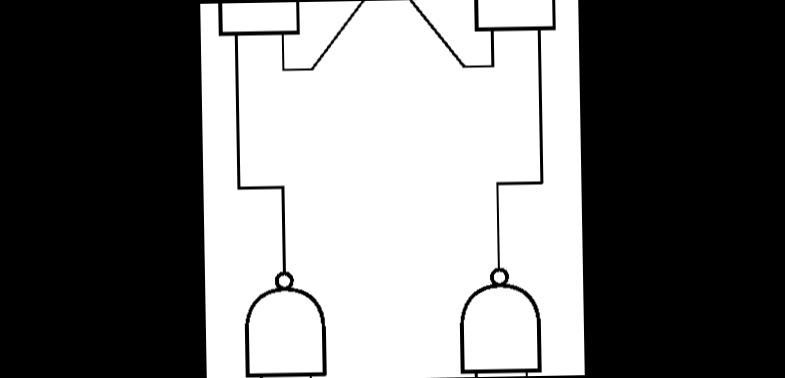nand: (449, 253, 552, 377), (233, 256, 336, 378), (210, 2, 310, 56), (464, 0, 565, 45)
